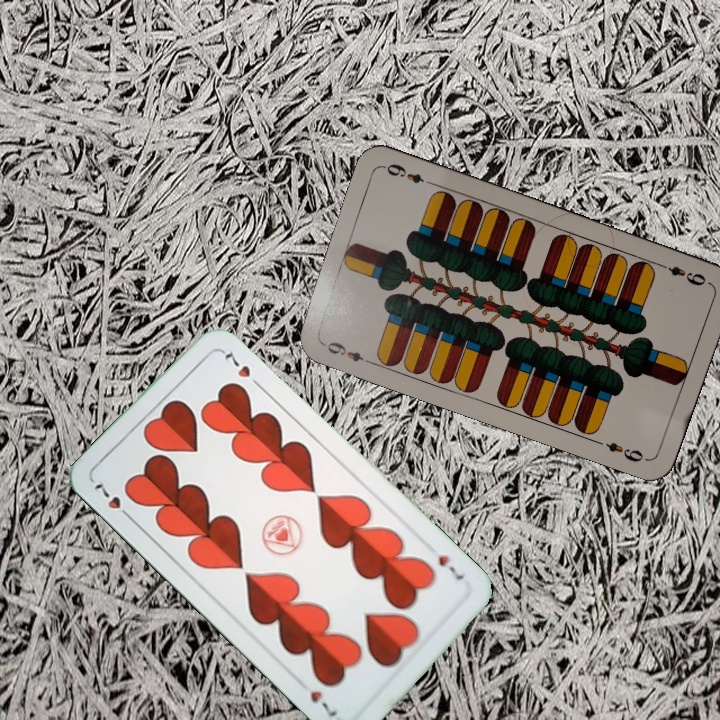E9: (318, 337, 375, 367), (654, 259, 709, 289)
H7: (89, 479, 136, 524), (434, 550, 467, 583)
